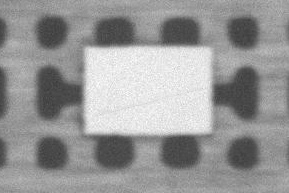DIE_CRACK: (141, 59, 289, 77)
